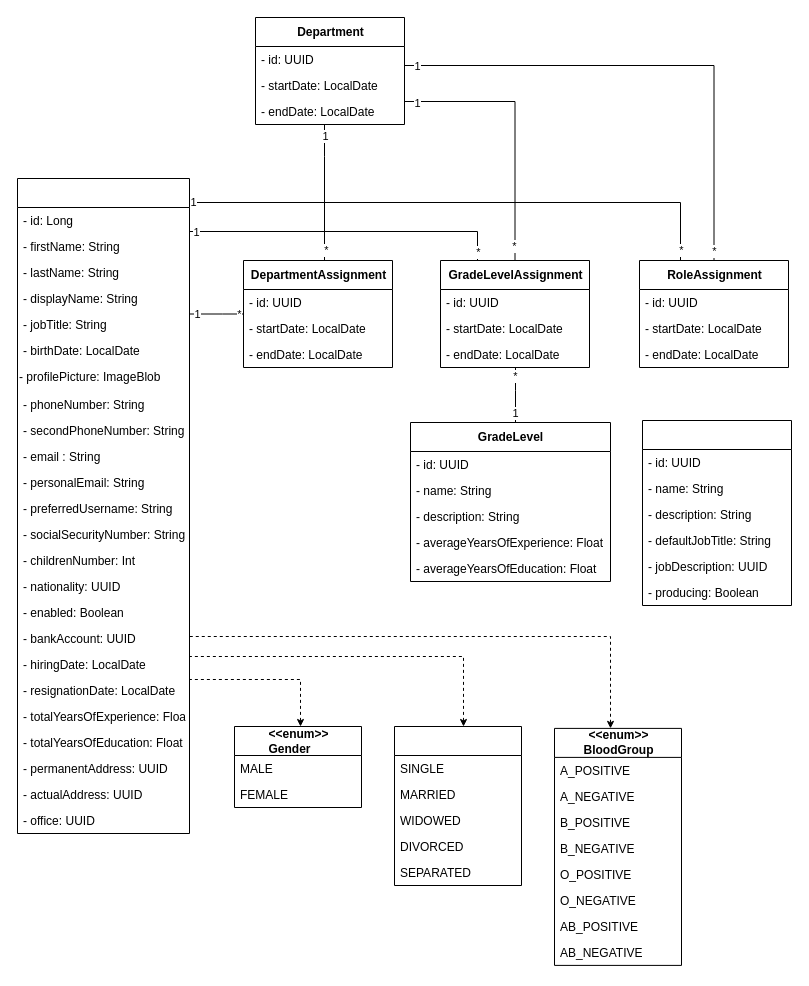
Image size: 809x986. Some labels were removed from this diagram. The box of each missing label's shape, as (x1, y1, x2, y2) in pixels:
<<enum>> CivilStatus: (394, 726, 522, 886)
Employee: (16, 178, 190, 834)
Role: (642, 420, 792, 606)
